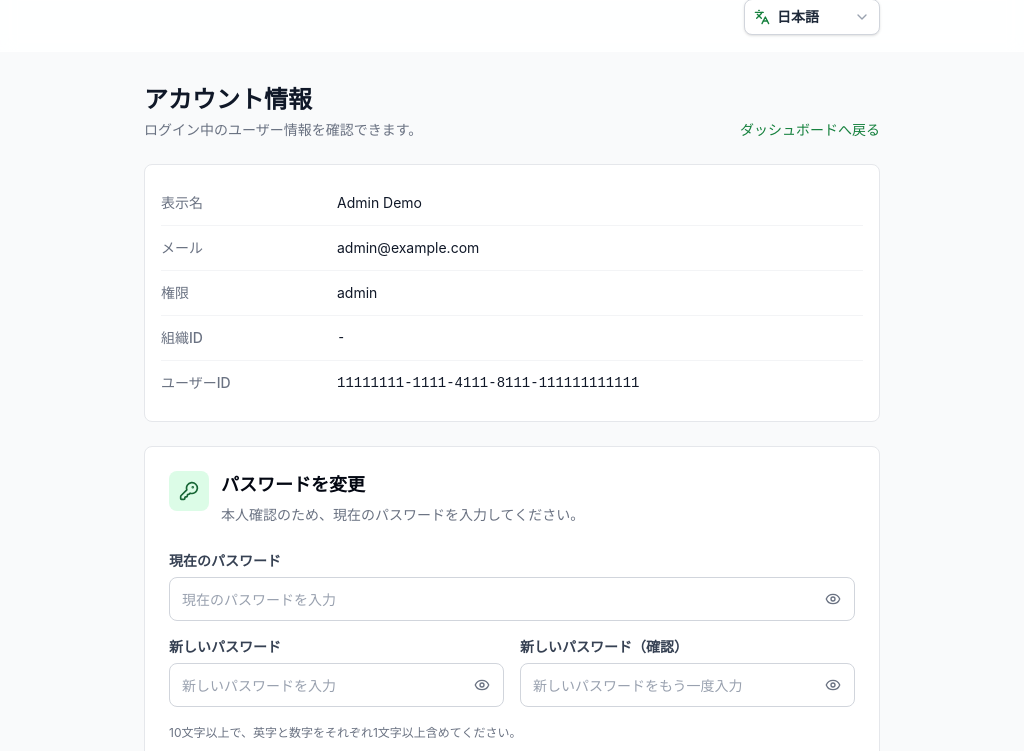
it: AccountPage password change › changes the password, signs out all sessions, and shows the re-login action
Type "Current1234" into the password field labelled "現在のパスワード" at (512,599), box [169,577,855,621]
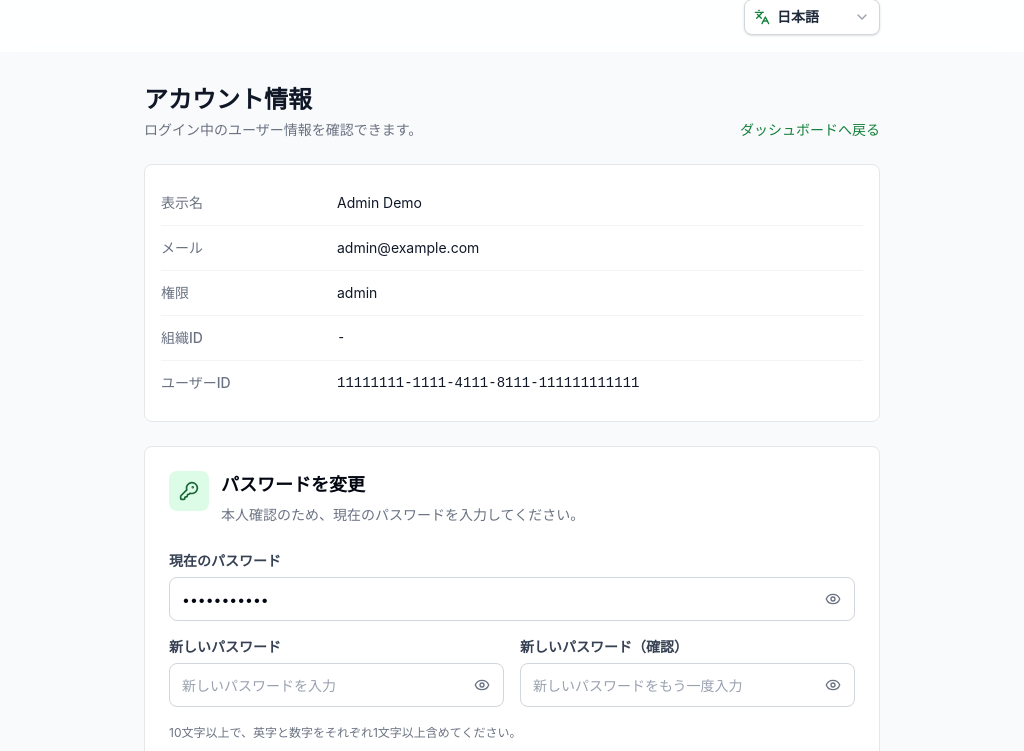
Type "Replacement5678" into the password field labelled "新しいパスワード" at (336,685), box [169,663,504,707]
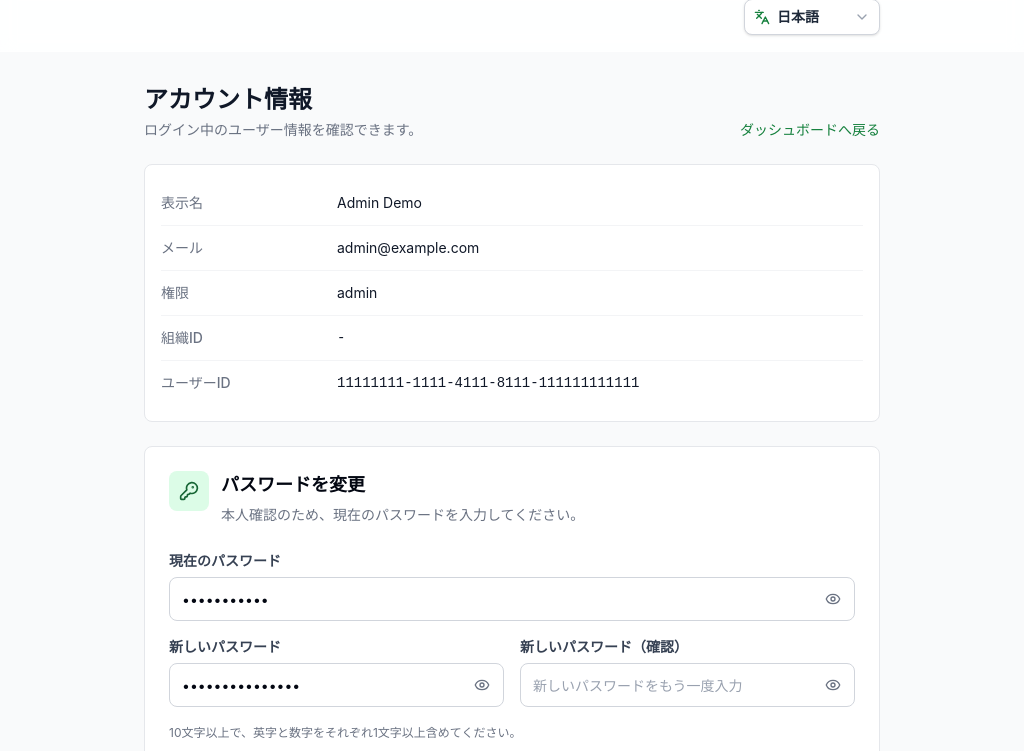
Type "Replacement5678" into the password field labelled "新しいパスワード（確認）" at (688,685), box [520,663,855,707]
(page scrolled)
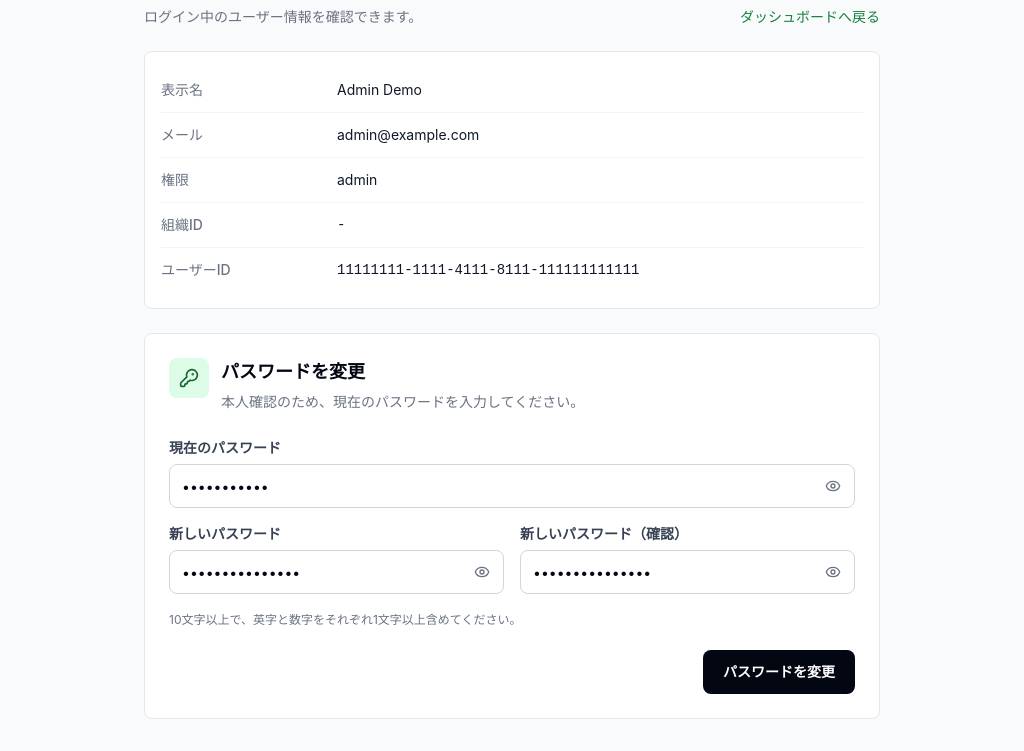
Click the button "パスワードを変更" at (779,672), box [703,650,855,694]
(page scrolled)
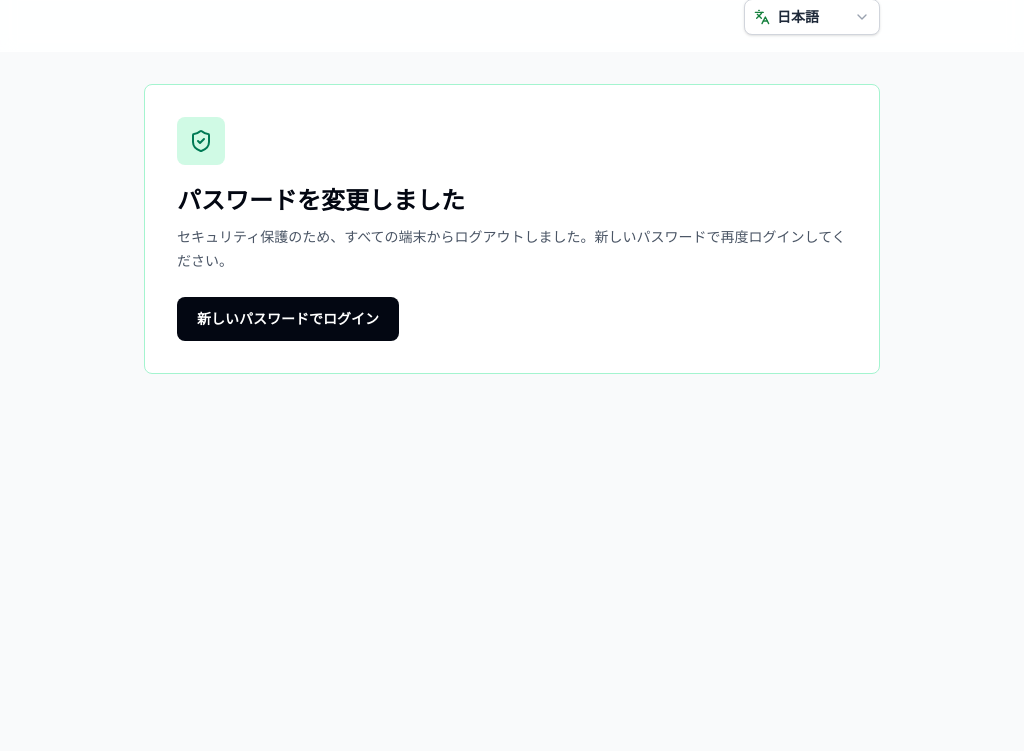
Check: the heading "パスワードを変更しました" is shown, box [177,186,465,215]
